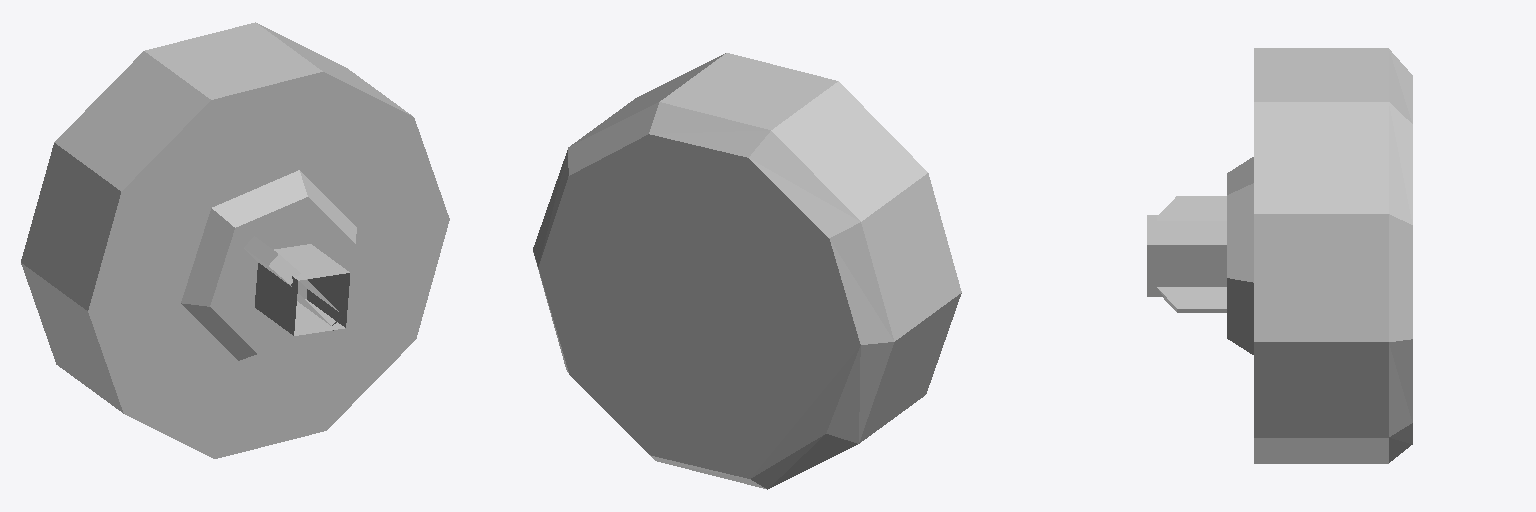
File: wheel237.obj
3 views of the same model, side by side, from view 1: azimuth 30°, elevation 25°; view 2: azimuth 150°, elevation 25°; view 3: azimuth 270°, elevation 25° (orthographic).
Visible parts, largest first — view 1: wheel_low_textures; view 2: wheel_low_textures; view 3: wheel_low_textures.
Boxes of the visible parts, box(x1,y1,x2,y2) form: wheel_low_textures: box(21, 22, 449, 458); wheel_low_textures: box(533, 53, 961, 489); wheel_low_textures: box(1147, 48, 1412, 463).
Bounding box in the file's own units: 1.56 × 1.49 × 0.9907.